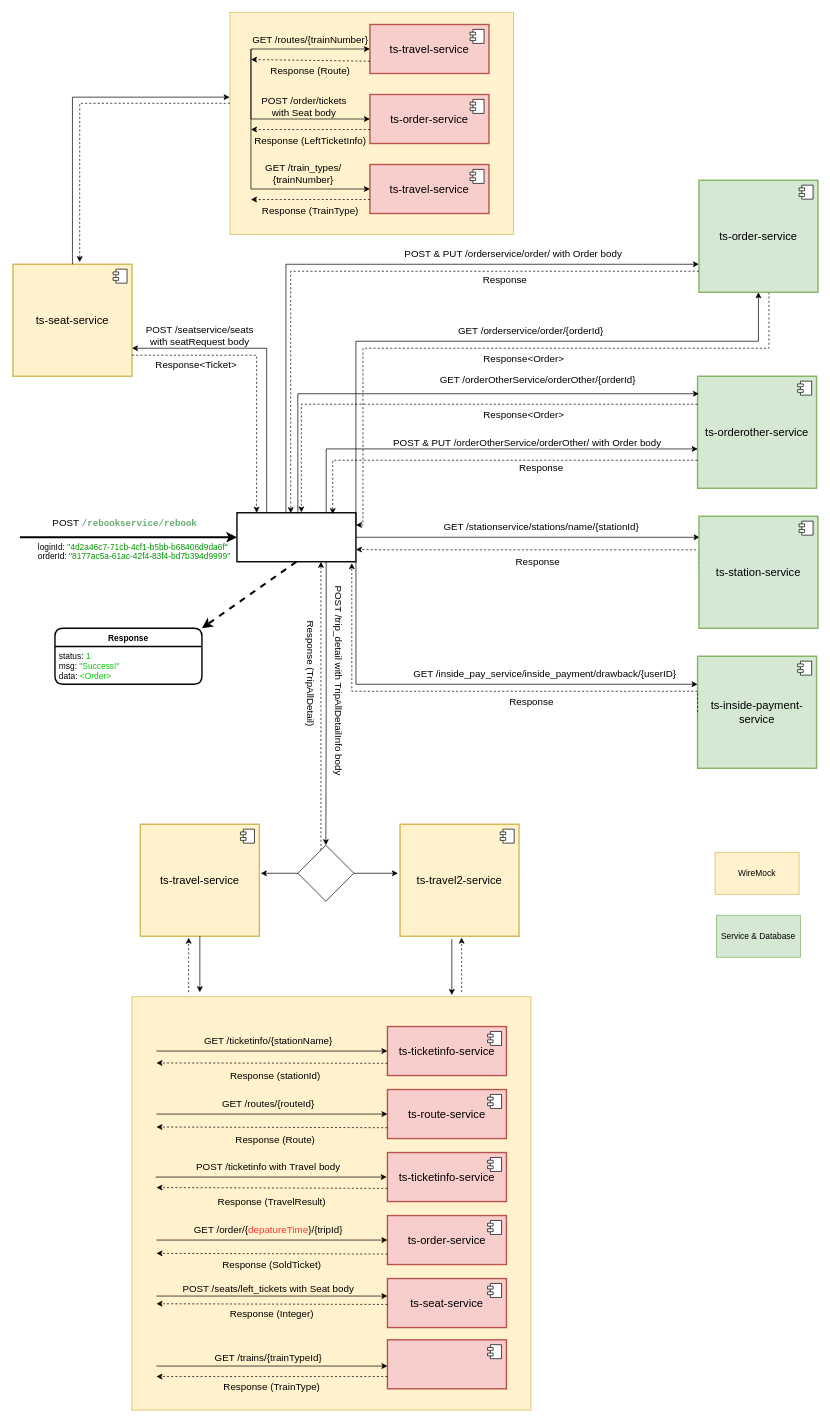
Some shapes in this 830 by 1422 pixel diagram are drawn without their labels. The shapes that lost their labels are listed below. From the top down, each one's centre as x and y in pixels, then its label:
At [296,537]: "ts-rebook-service".
At [446,1364]: "ts-train- service".
